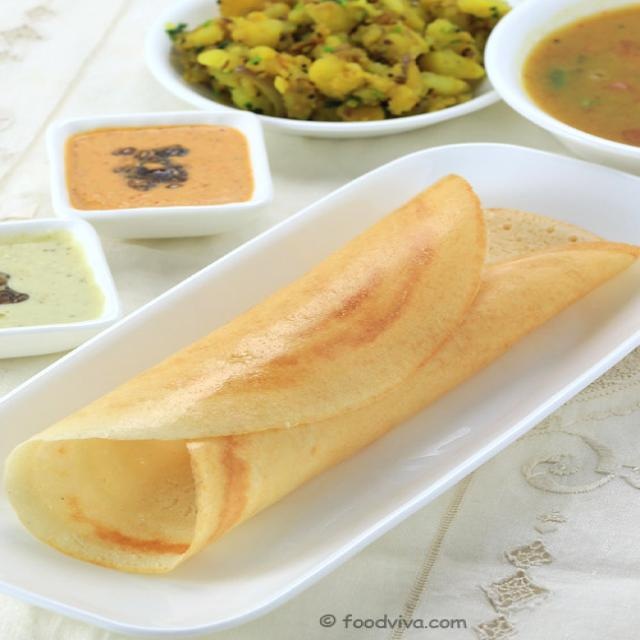Wet Waste: (1, 165, 632, 583), (0, 229, 118, 323)
